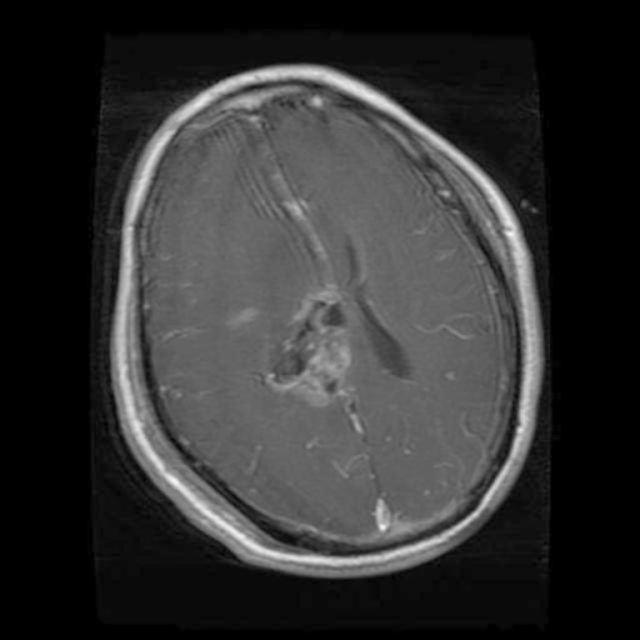pituitary tumor: (272, 290, 346, 401)
